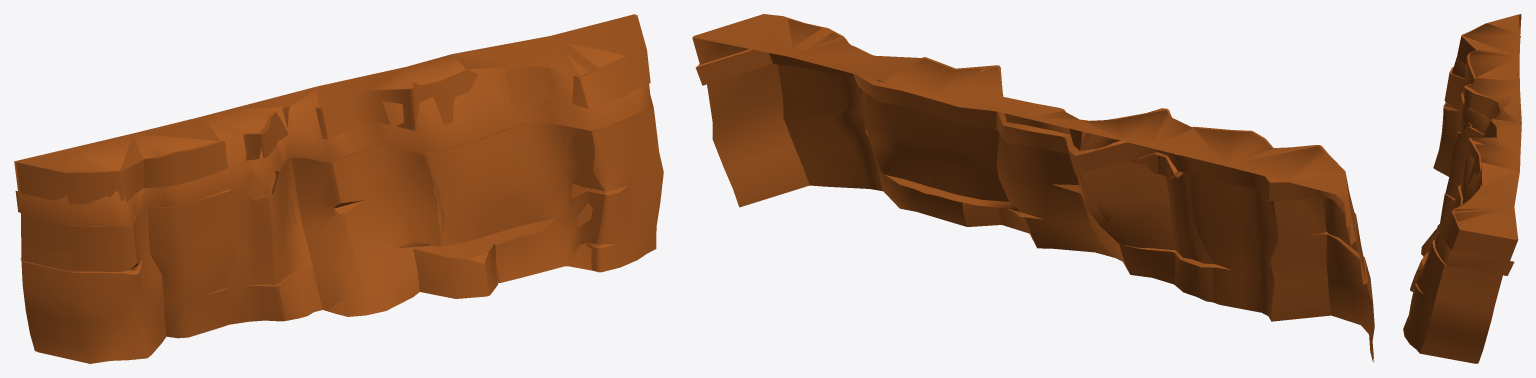
Rendered from SM_Mars_Cliff_02.fbx.
The picture shows the model from 3 angles, left to right: view 1: azimuth 30°, elevation 25°; view 2: azimuth 150°, elevation 25°; view 3: azimuth 270°, elevation 25°; orthographic projection. The views are drawn at different scales.
Visible parts, largest first — view 1: Cliff_01, Cliff_01_col; view 2: Cliff_01_col, Cliff_01; view 3: Cliff_01, Cliff_01_col.
Boxes of the visible parts, bbox=[...] form: Cliff_01: bbox=[15, 15, 663, 363]; Cliff_01_col: bbox=[14, 14, 651, 351]; Cliff_01_col: bbox=[692, 19, 1373, 362]; Cliff_01: bbox=[693, 14, 1374, 361]; Cliff_01: bbox=[1403, 14, 1520, 363]; Cliff_01_col: bbox=[1435, 14, 1521, 363].
Size of the model in its own units: 8892 by 2540 by 1965.
